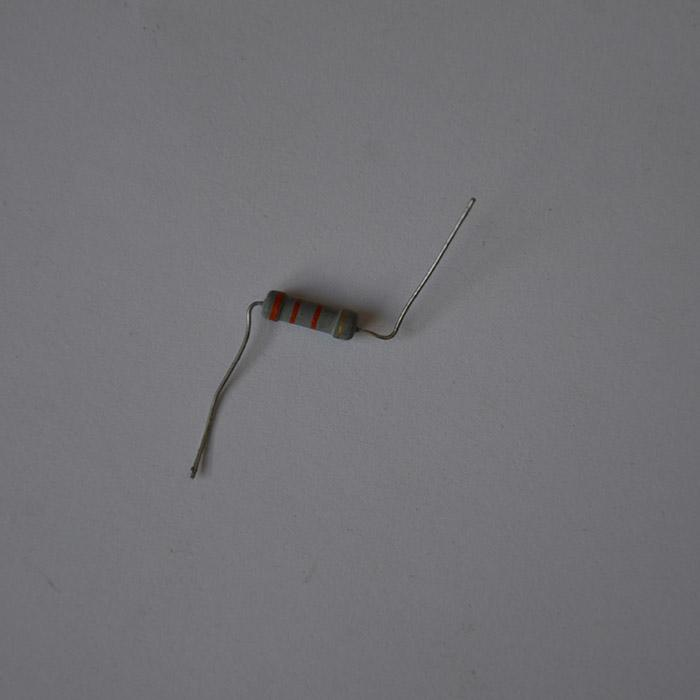resistor: (260, 288, 359, 340)
